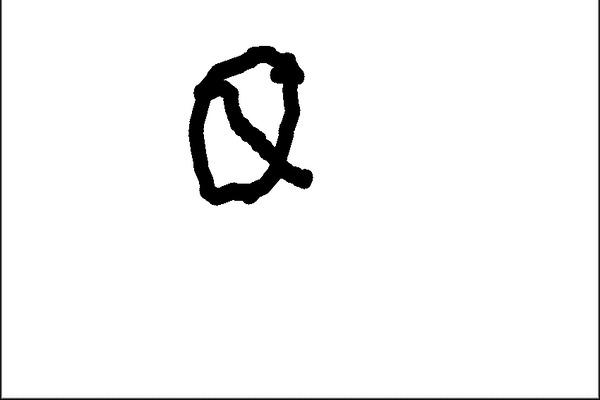Q: (182, 41, 327, 208)
